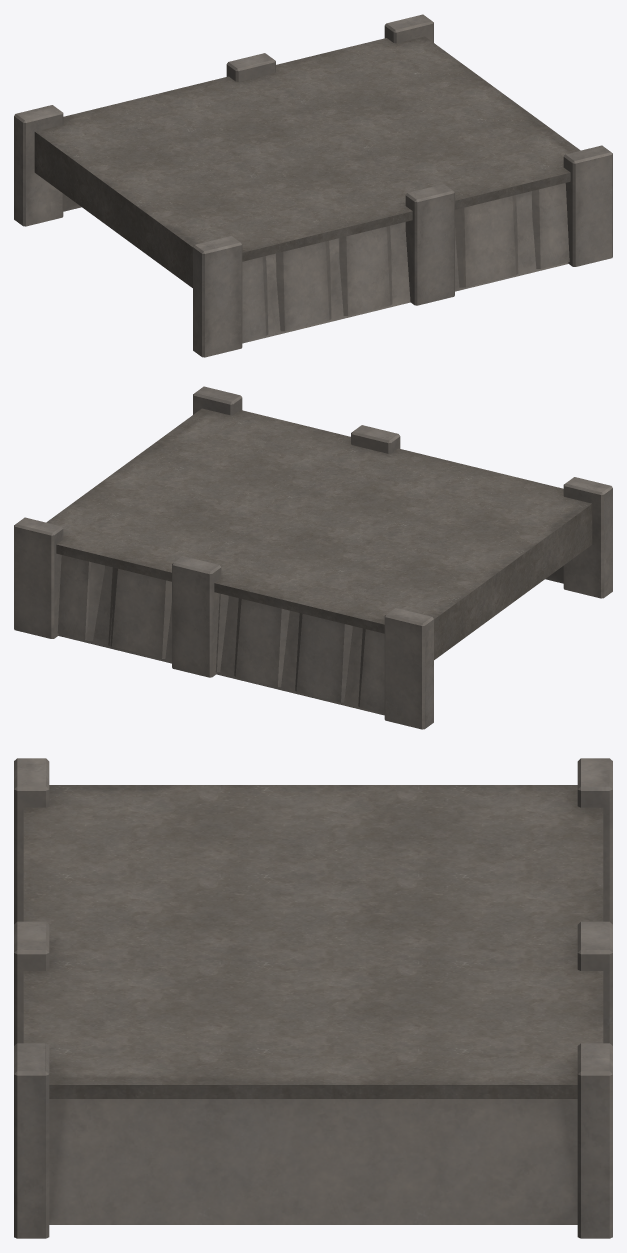
File: Trottoir_3.1.fbx
3 views of the same model, one above another, from view 1: azimuth 30°, elevation 25°; view 2: azimuth 150°, elevation 25°; view 3: azimuth 270°, elevation 25° (orthographic). The views are drawn at different scales.
Visible parts, largest first — view 1: Trottoir_3.1; view 2: Trottoir_3.1; view 3: Trottoir_3.1.
Boxes of the visible parts, <box> form: Trottoir_3.1: <box>14,14,612,357</box>; Trottoir_3.1: <box>14,386,612,729</box>; Trottoir_3.1: <box>14,758,612,1238</box>.
Bounding box in the file's own units: 3777 × 927 × 3027.
